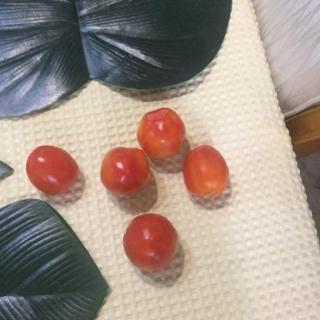Tomat: (115, 211, 190, 276), (22, 143, 85, 202), (185, 143, 236, 211), (97, 143, 158, 199), (132, 106, 188, 162)
